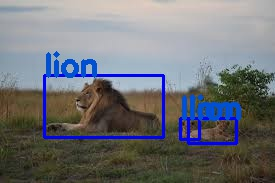lion: (44, 74, 163, 137), (188, 118, 235, 143), (180, 118, 199, 139)
